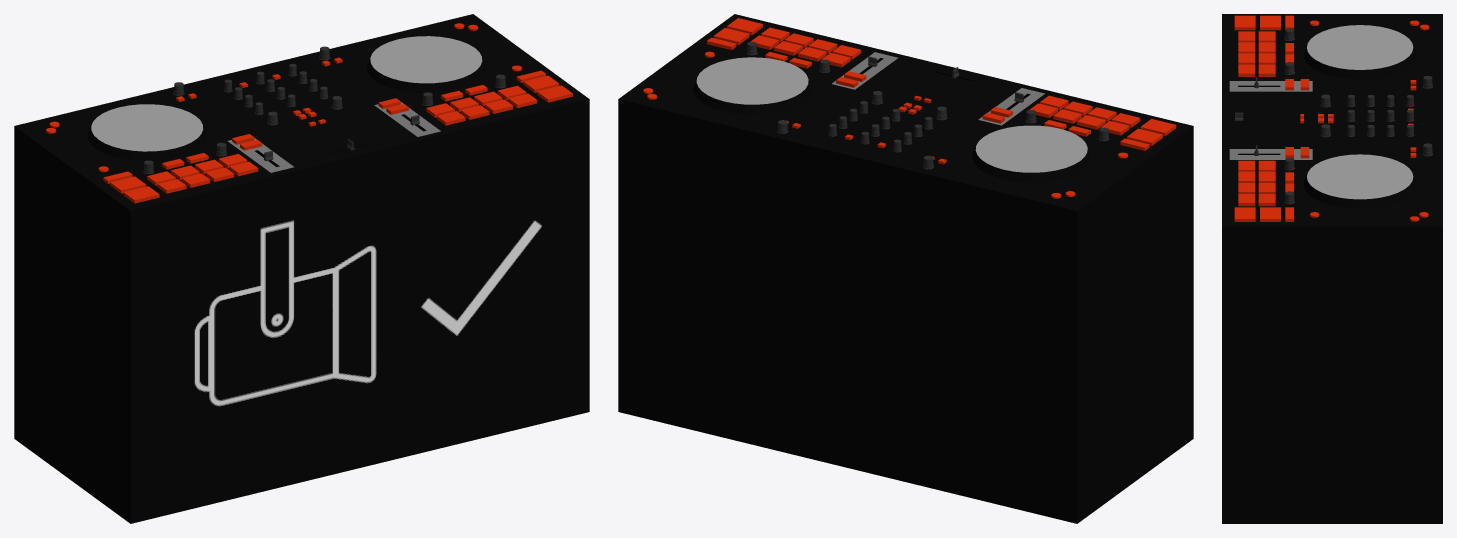
The picture shows the model from 3 angles, left to right: view 1: azimuth 30°, elevation 25°; view 2: azimuth 150°, elevation 25°; view 3: azimuth 270°, elevation 25°; orthographic projection. The views are drawn at different scales.
Visible parts, largest first — view 1: DJ-Station; view 2: DJ-Station; view 3: DJ-Station.
Boxes of the visible parts, x1,y1,x2,y2 form: DJ-Station: (14,14,589,523); DJ-Station: (618,14,1193,523); DJ-Station: (1222,14,1442,523).
Bounding box in the file's own units: 307 × 206 × 135.
5 materials, 1 textured.
